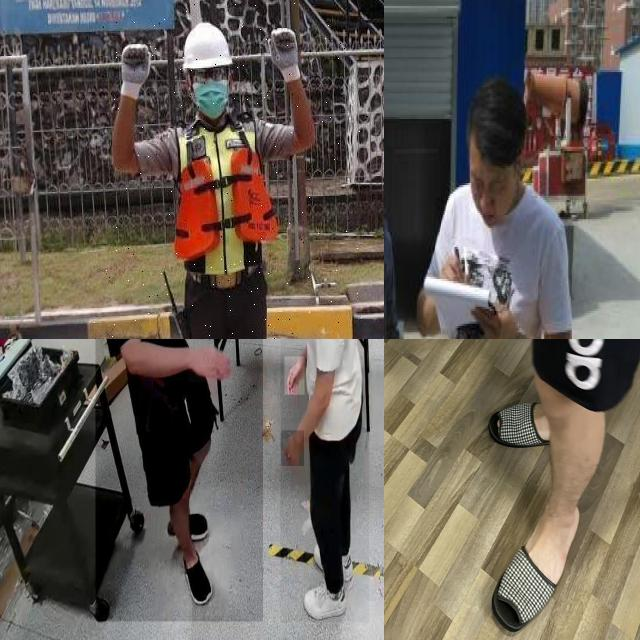Sandals: (482, 500, 596, 634), (483, 397, 573, 453)
hand_noglove: (189, 342, 233, 383), (281, 430, 305, 467), (285, 356, 305, 396)
head_helmet: (179, 20, 235, 77)
person: (89, 0, 365, 339), (95, 339, 263, 622), (280, 339, 369, 623)
shoes: (178, 547, 216, 611), (301, 581, 352, 623)
vest: (175, 119, 279, 275)
